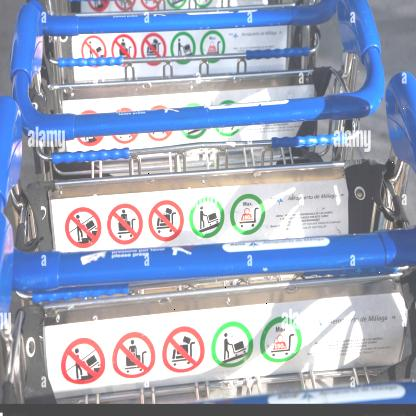airport-trolley: (0, 72, 416, 291), (0, 210, 416, 405), (11, 0, 386, 160)
